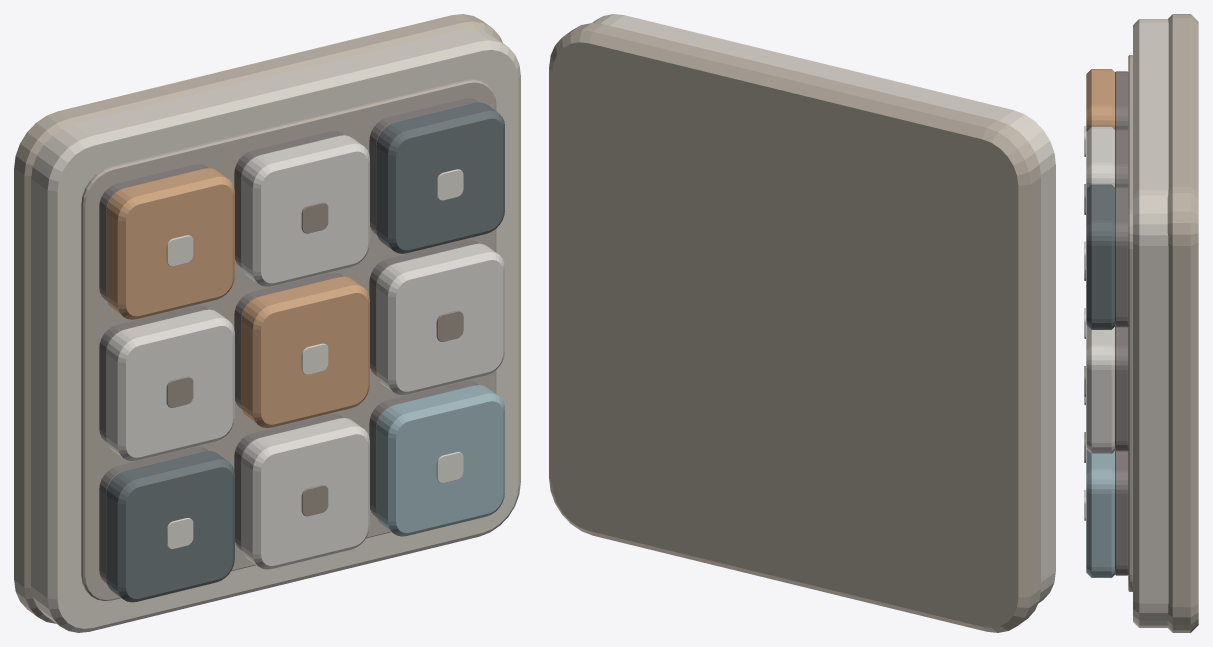
Rendered from game_play_9_key_controller.glb.
3 renders of one model, left to right at view 1: azimuth 30°, elevation 25°; view 2: azimuth 150°, elevation 25°; view 3: azimuth 270°, elevation 25°, orthographic. The views are drawn at different scales.
Parts seen in each view (by area): view 1: Base_cream_shell, Keybed_recess, Base_bottom, Key_03, Key_04, Key_01, Key_02, Key_09, Key_05, Key_06, Key_07, Key_08 (+18 smaller); view 2: Base_bottom, Base_cream_shell; view 3: Base_cream_shell, Base_bottom, Key_03, Key_06, Key_09, Keybed_recess, Key_03_stem, Key_06_stem, Key_09_stem, Key_02, Key_01, Key_01_stem (+1 smaller).
Boxes of the visible parts, x1,y1,x2,y2 form: Base_cream_shell: [31, 28, 520, 632]; Keybed_recess: [81, 79, 496, 601]; Base_bottom: [14, 14, 502, 623]; Key_03: [376, 102, 504, 253]; Key_04: [106, 309, 234, 460]; Key_01: [106, 168, 234, 319]; Key_02: [241, 135, 369, 286]; Key_09: [376, 385, 504, 536]; Key_05: [241, 276, 369, 427]; Key_06: [376, 243, 504, 395]; Key_07: [106, 451, 234, 602]; Key_08: [241, 418, 369, 569]; Base_bottom: [549, 23, 1040, 632]; Base_cream_shell: [592, 14, 1055, 603]; Base_cream_shell: [1133, 19, 1168, 627]; Base_bottom: [1167, 14, 1198, 632]; Key_03: [1086, 184, 1114, 329]; Key_06: [1086, 325, 1114, 453]; Key_09: [1086, 449, 1114, 577]; Keybed_recess: [1128, 55, 1132, 591]; Key_03_stem: [1115, 187, 1128, 327]; Key_06_stem: [1115, 327, 1128, 451]; Key_09_stem: [1115, 451, 1128, 575]; Key_02: [1086, 126, 1114, 189]; Key_01: [1086, 69, 1114, 131]; Key_01_stem: [1115, 71, 1128, 129].
Bounding box in the file's own units: 4.6 × 4.6 × 1.08.
